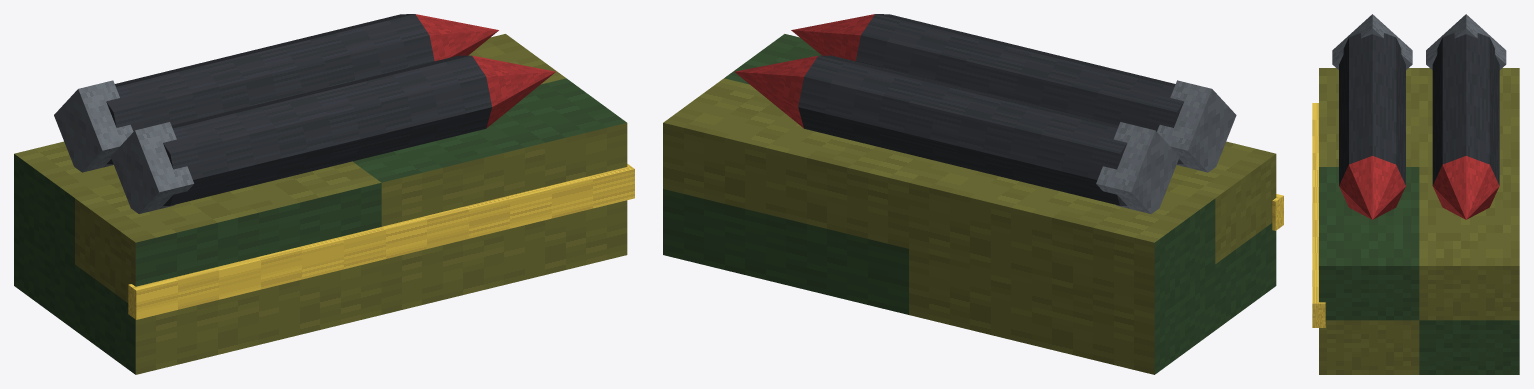
File: pickup_ammo_rockets.glb
3 renders of one model, left to right at view 1: azimuth 30°, elevation 25°; view 2: azimuth 150°, elevation 25°; view 3: azimuth 270°, elevation 25°, orthographic. The views are drawn at different scales.
Visible parts, largest first — view 1: pickup_ammo_rockets; view 2: pickup_ammo_rockets; view 3: pickup_ammo_rockets.
Part boxes in pixels (x1,y1,x2,y2): pickup_ammo_rockets: [14, 14, 634, 374]; pickup_ammo_rockets: [663, 14, 1283, 374]; pickup_ammo_rockets: [1312, 14, 1519, 374].
Size of the model in its own units: 0.71 by 0.29 by 0.31.
Materials: 1 (1 with a texture image).
